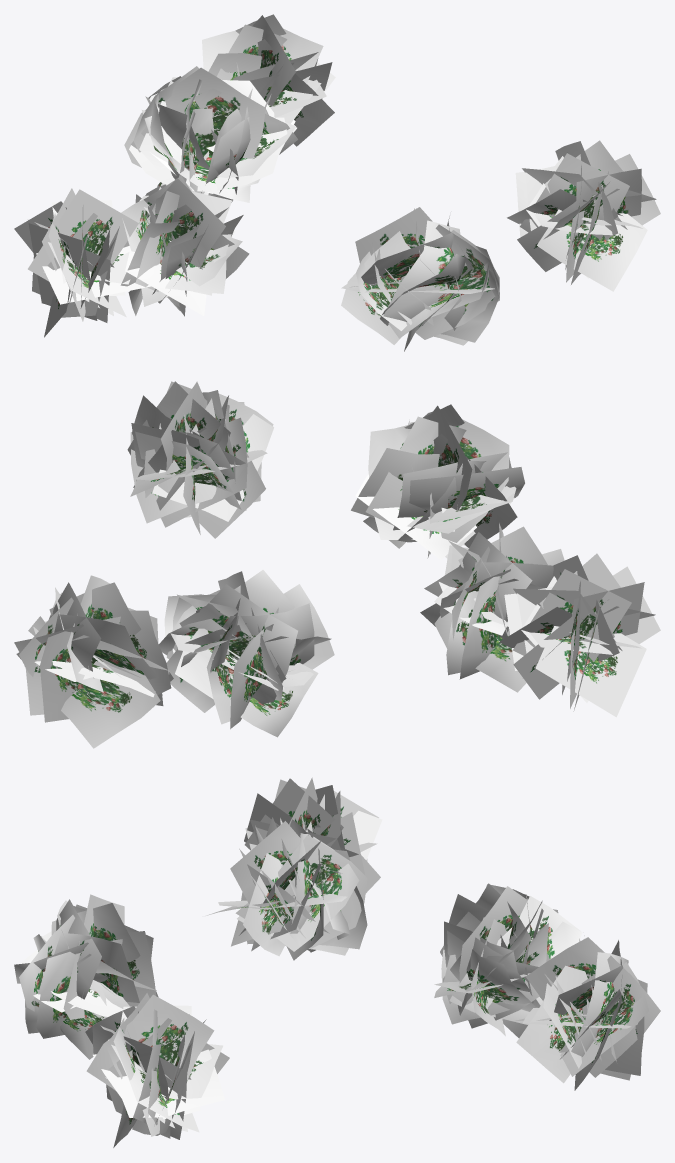
The model's file is Grass_4.fbx.
3 renders of one model, top to bottom at view 1: azimuth 30°, elevation 25°; view 2: azimuth 150°, elevation 25°; view 3: azimuth 270°, elevation 25°, orthographic. The views are drawn at different scales.
Visible parts, largest first — view 1: Plane.039; view 2: Plane.039; view 3: Plane.039.
Boxes of the visible parts, box(x1,y1,x2,y2) form: Plane.039: box(14, 14, 660, 351); Plane.039: box(14, 381, 660, 748); Plane.039: box(14, 777, 660, 1147).
Bounding box in the file's own units: 38.81 × 9.82 × 38.3.
1 material, 1 textured.
